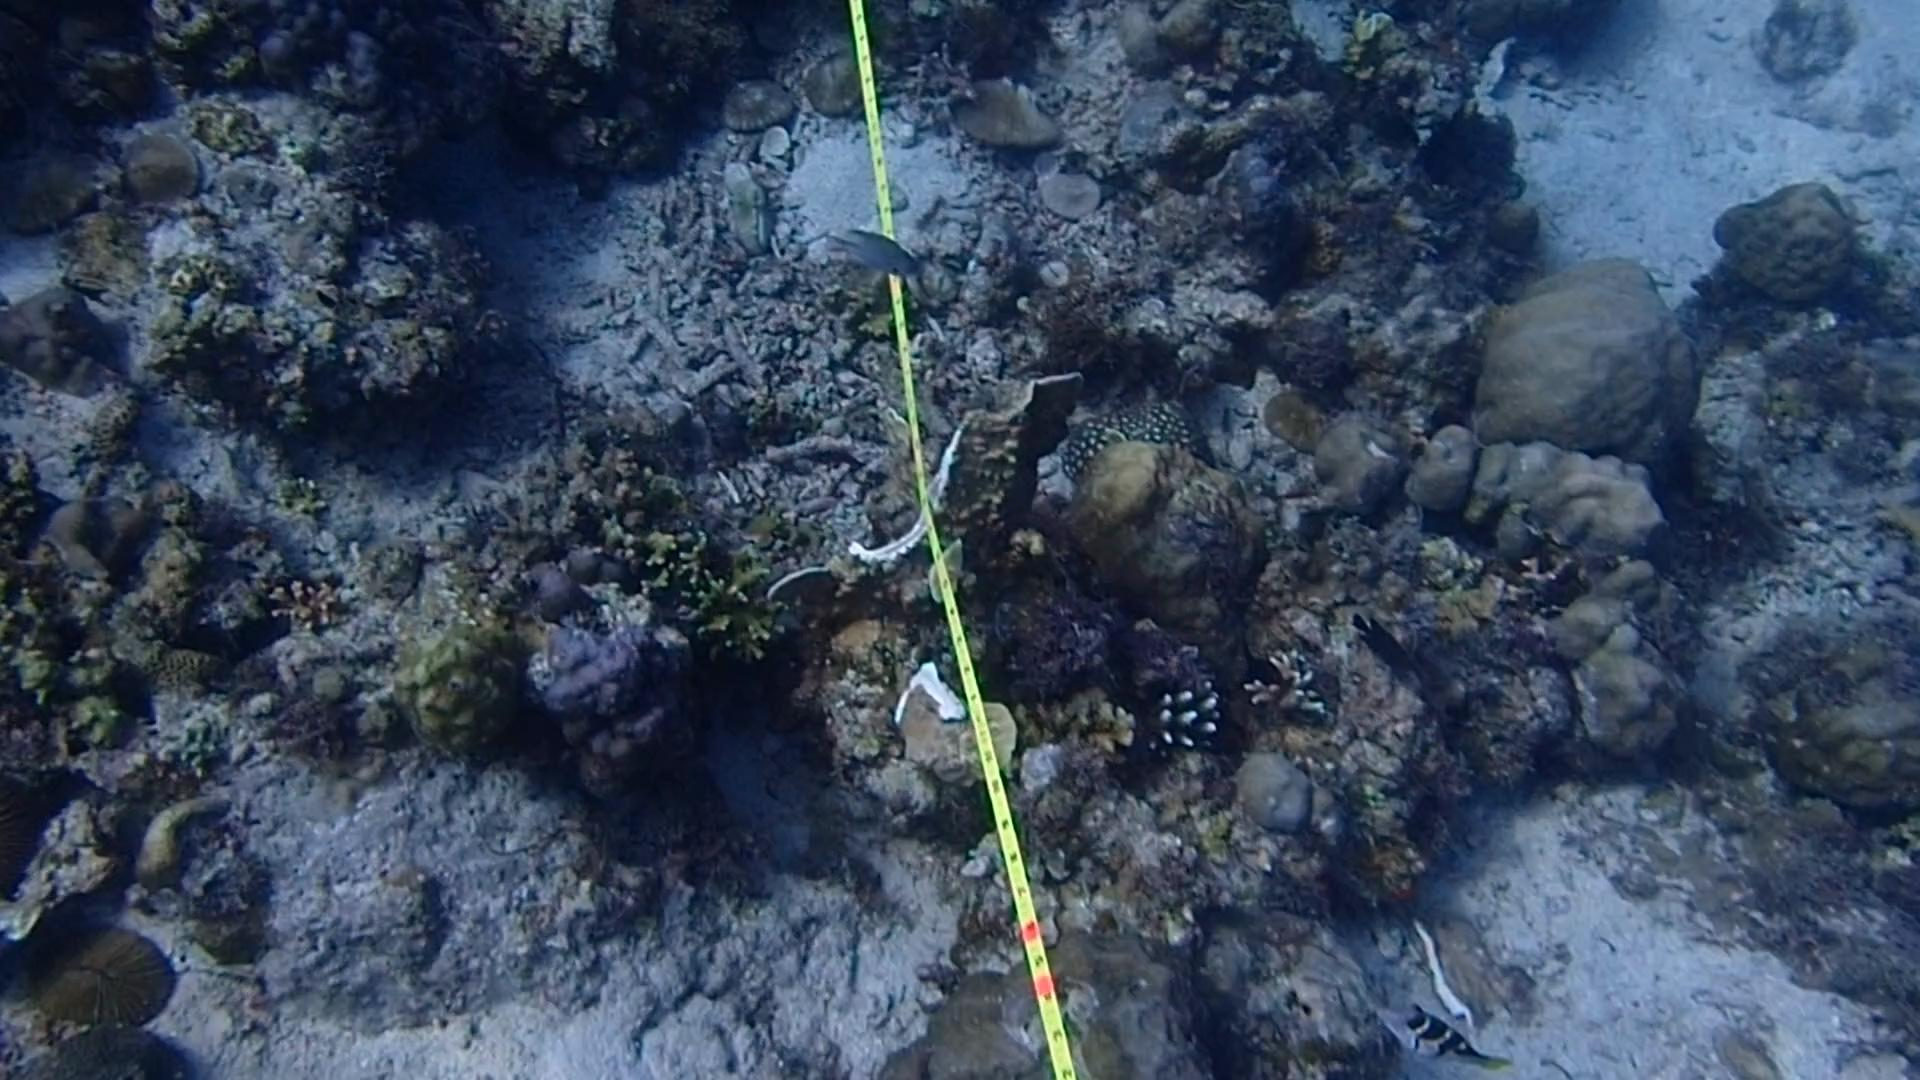Striped Fish: (1390, 993, 1523, 1080)
